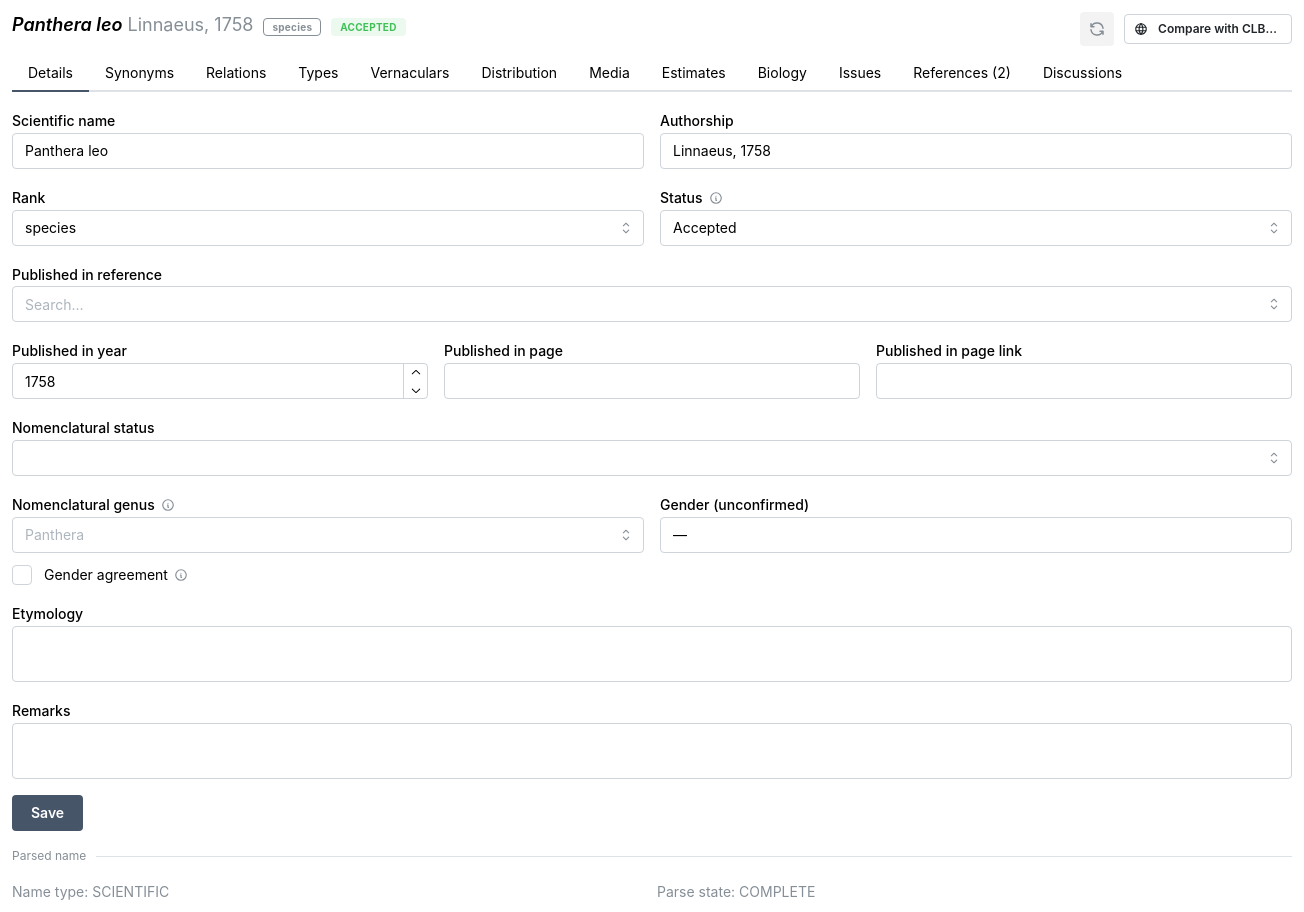
the References tab lists the usage's references, a citation and a webpage title with a web badge/link
This screenshot has width=1304, height=912.
expect the field labelled "Scientific name" is shown: met, box x1=12 y1=133 x2=644 y2=169
Step 1. Click the tab "References (2)" → (962, 74), box x1=897 y1=56 x2=1027 y2=92
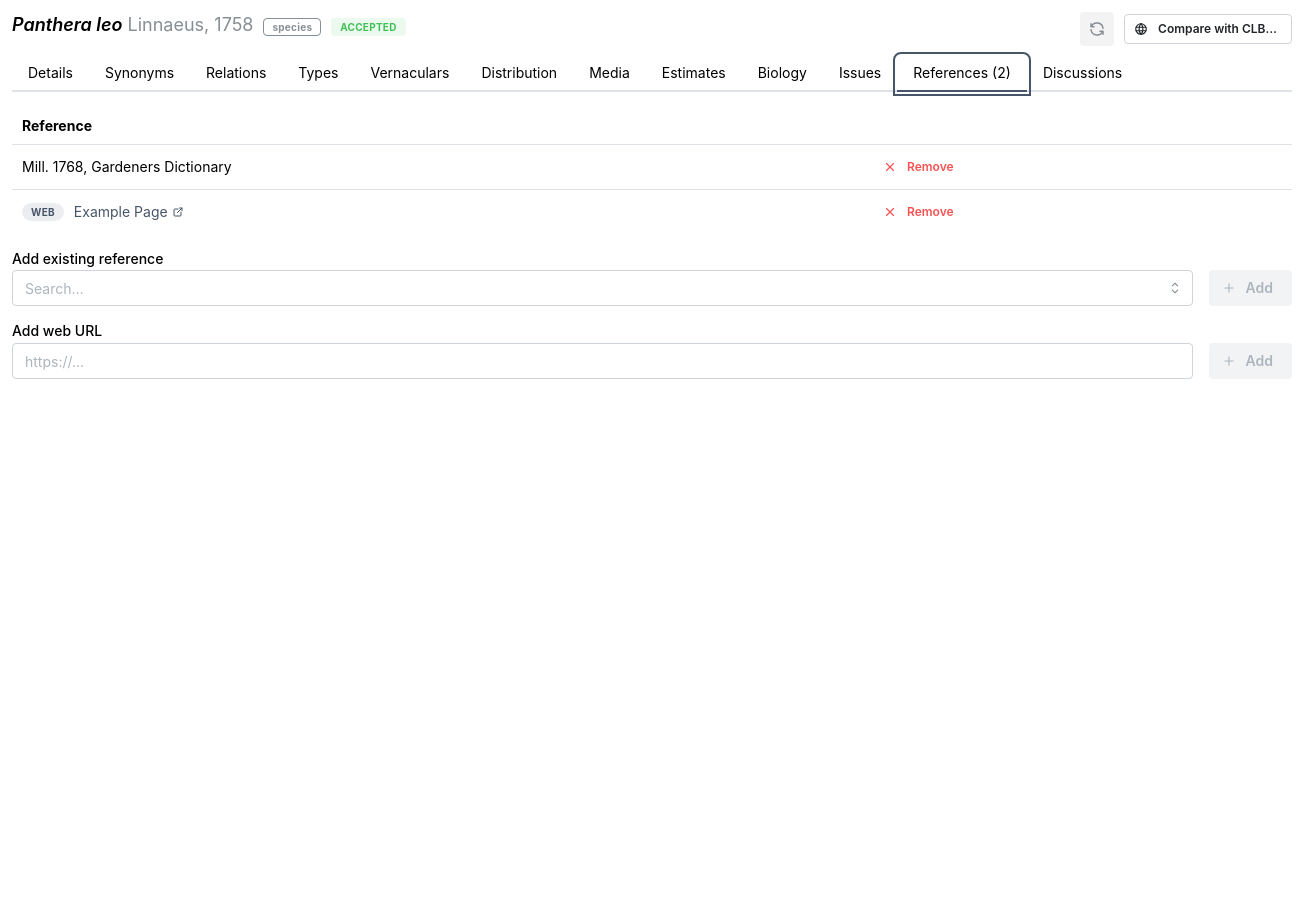
expect the text "web" is shown: met, box x1=31 y1=204 x2=55 y2=220
